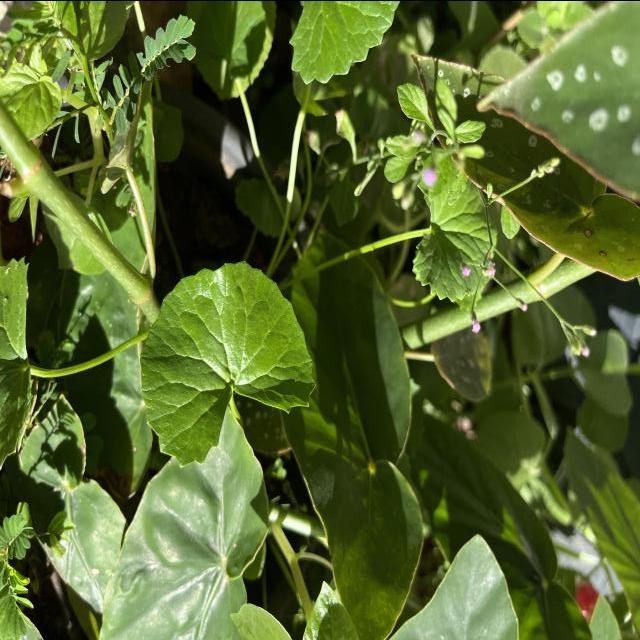Centella asiatica: (137, 257, 318, 469)
